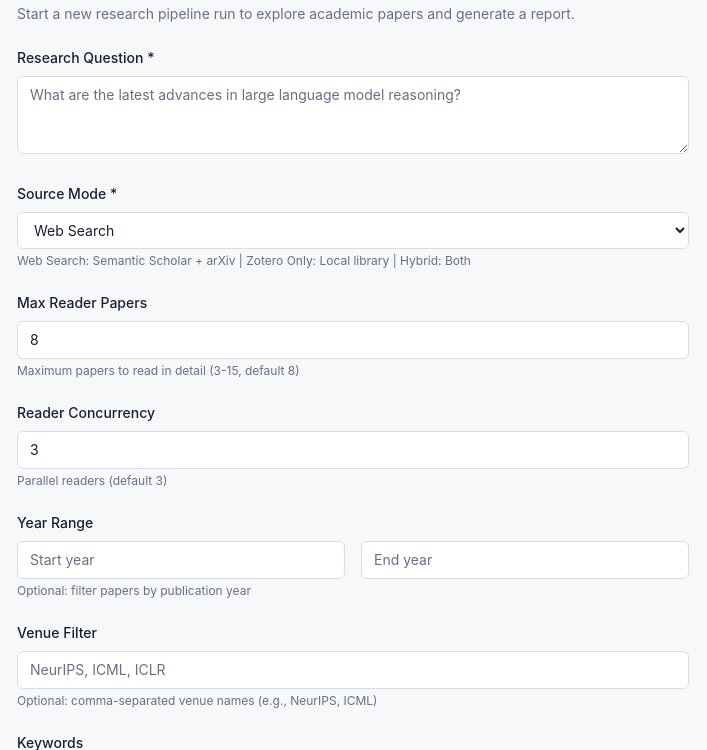
Test: NewRunPage › handles submission error
Type "Test question" into the text box labelled "Research Question *". click: x=353, y=115
box: [17,76,689,154]
(page scrolled)
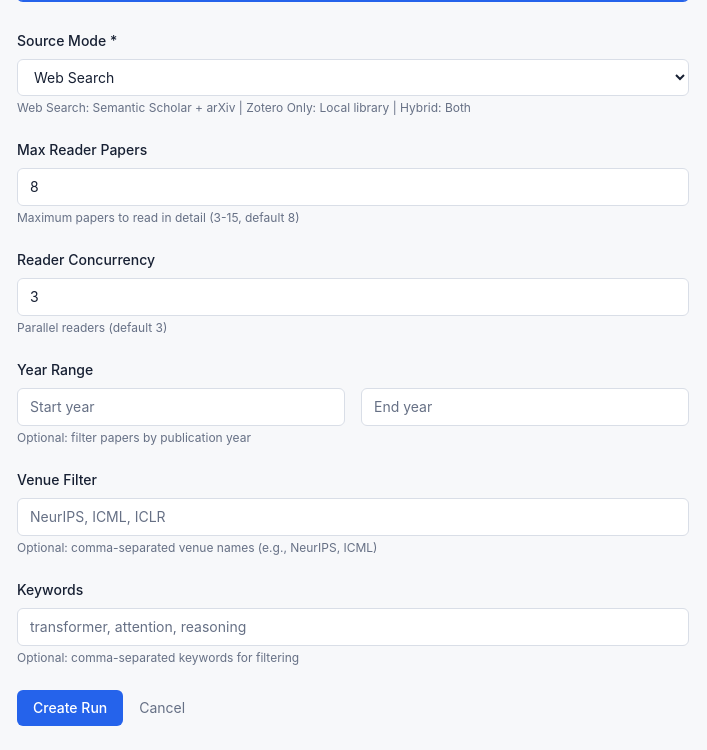
Click the button "Create Run". click: x=70, y=708
box: [17,690,123,726]
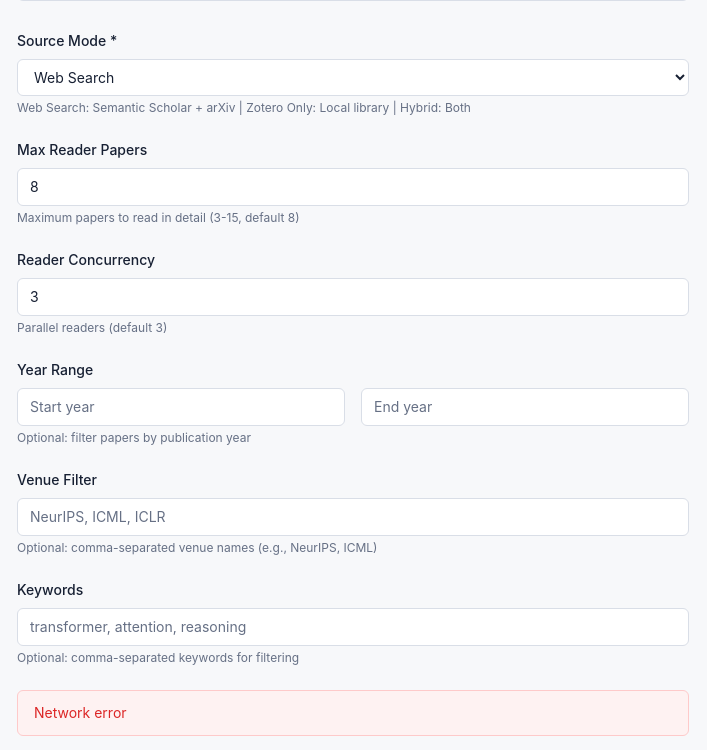
Now the text "Network error" is shown, box [34,704,127,721]
